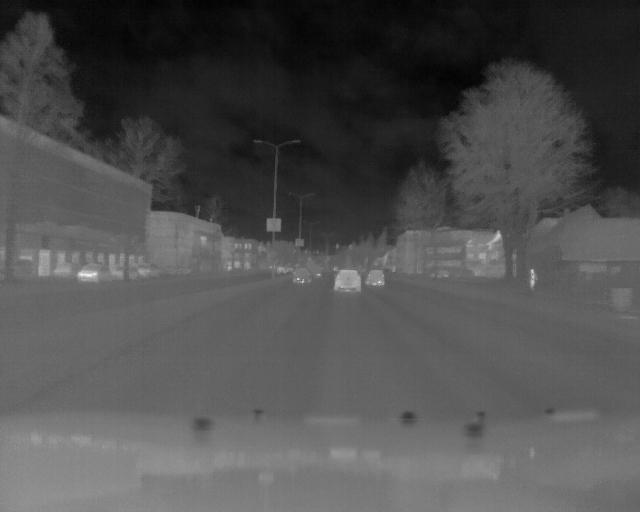car: (331, 265, 364, 296), (77, 260, 113, 286), (364, 265, 385, 293)
person: (527, 268, 539, 293)
